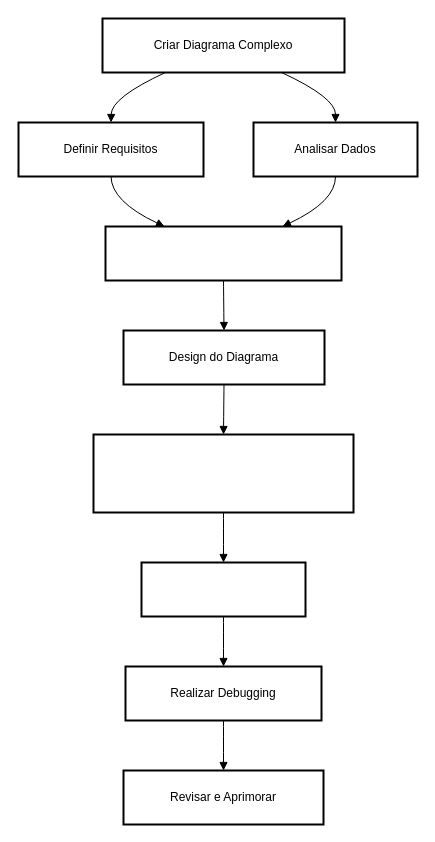
Some shapes in this 435 by 842 pixel diagram are drawn without their labels. Each missing label, with the centre of its shape:
"Identificar Componentes" belongs at point (223, 253).
"Implementar Funcionalidades" belongs at point (223, 473).
"Testar Sistema" belongs at point (223, 589).
